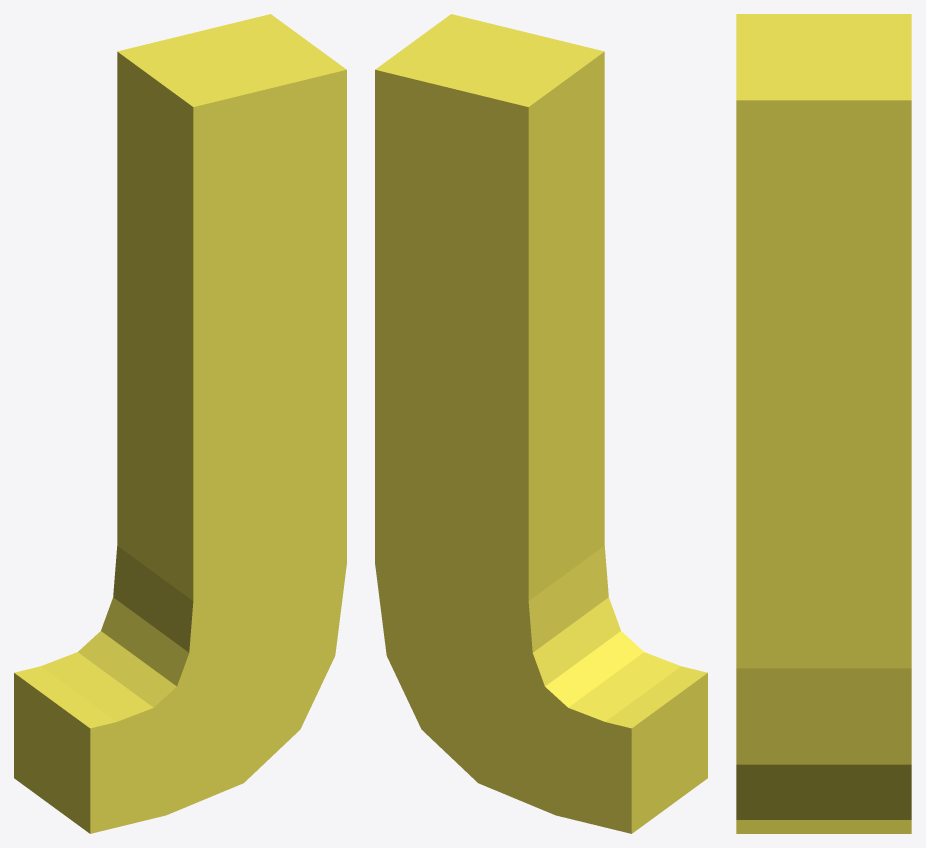
Rendered from huruf_kecil_j.glb.
3 views of the same model, side by side, from view 1: azimuth 30°, elevation 25°; view 2: azimuth 150°, elevation 25°; view 3: azimuth 270°, elevation 25° (orthographic). The views are drawn at different scales.
Visible parts, largest first — view 1: geometry_0; view 2: geometry_0; view 3: geometry_0.
Boxes of the visible parts, left/top/right/bottom form: geometry_0: left=14, top=14, right=346, bottom=833; geometry_0: left=375, top=14, right=707, bottom=833; geometry_0: left=736, top=14, right=911, bottom=833.
Bounding box in the file's own units: 2.92 × 7.63 × 1.5.
